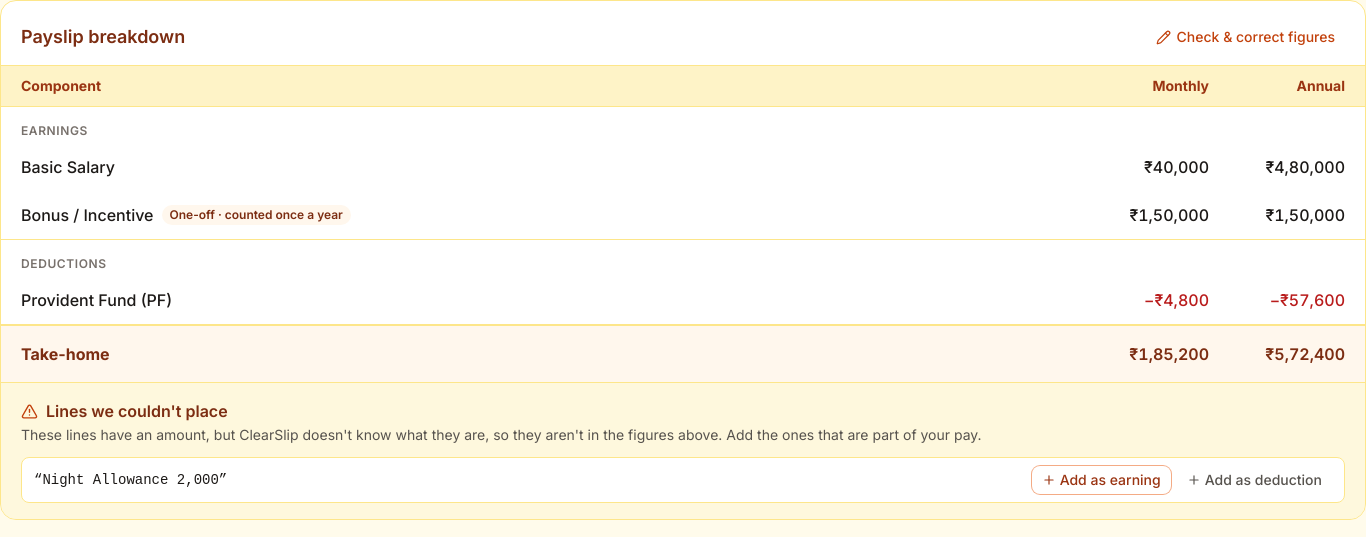
it: BreakdownTable › "Add as earning" opens the editor with the line filled in, and sends it with the one-off flags
Later steps or results of the test are not shown.
Click the button "Add as earning" at (1101, 480), box [1032, 466, 1171, 494]
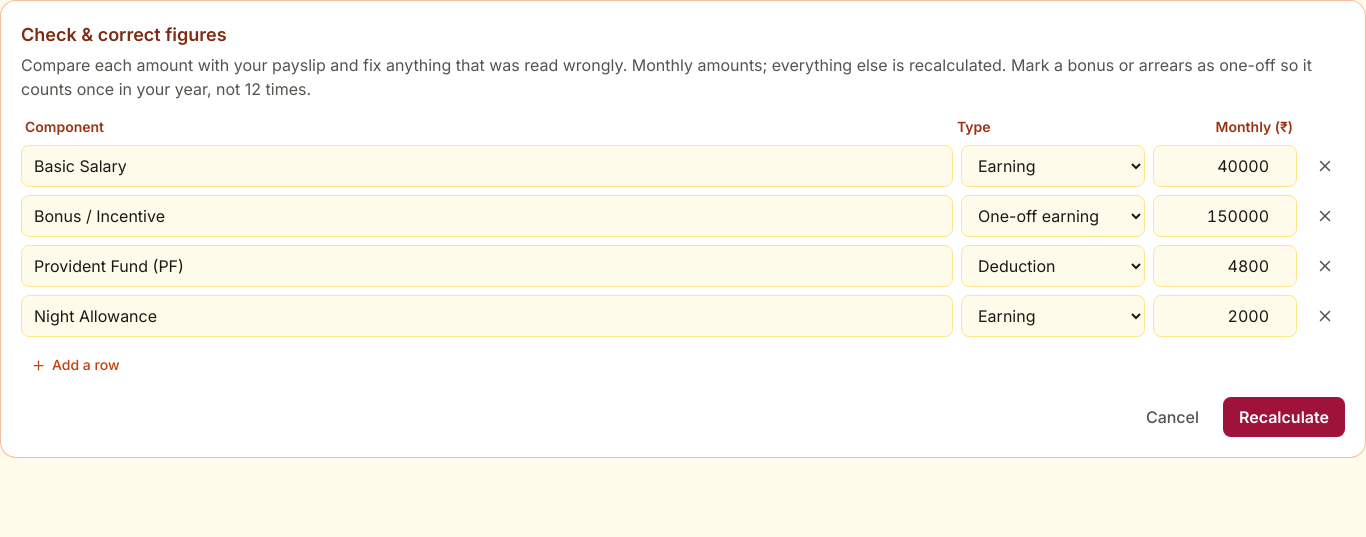
Expected: the heading "Check & correct figures" is shown, [21, 24, 227, 45]
Expected: the field named "Row 4 name" holds "Night Allowance", [21, 295, 953, 337]
Expected: the number field named "Row 4 monthly amount" holds "2000", [1153, 295, 1297, 337]
